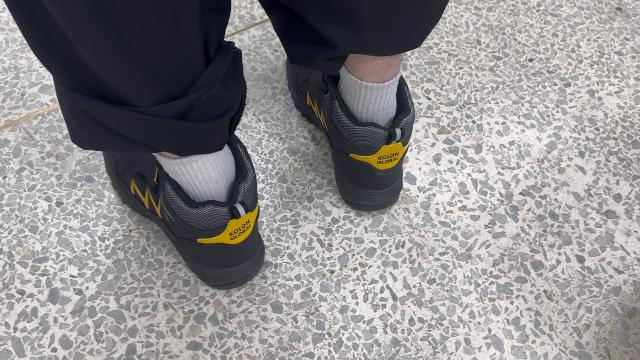shoe_worn: (101, 137, 270, 292), (283, 51, 420, 213)
